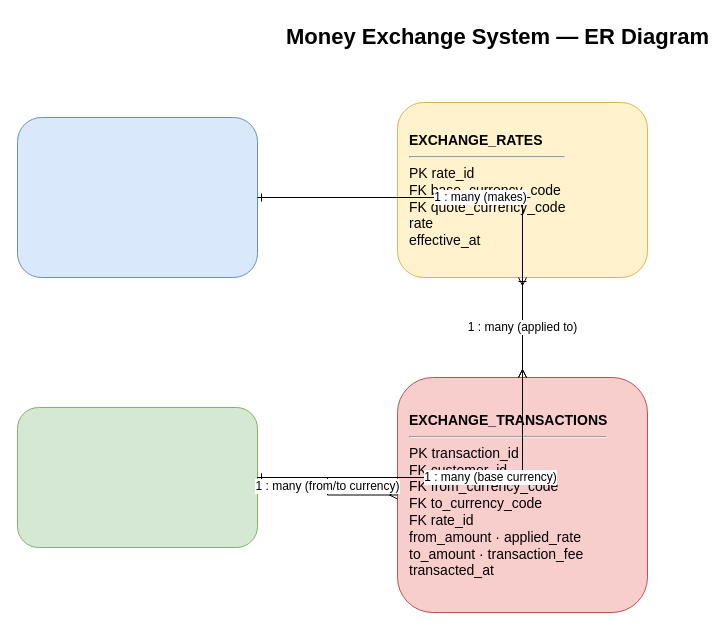
This 726x630 diagram has some shape labels left out. The shapes that lost their labels are listed below. From the top down, each one's box as (x1, y1, x2, y2) in pixels, then its label:
(16, 116, 258, 278): CUSTOMERS PK customer_id full_name email (UNIQUE) phone created_at
(16, 406, 258, 548): CURRENCIES PK currency_code currency_name symbol is_active
